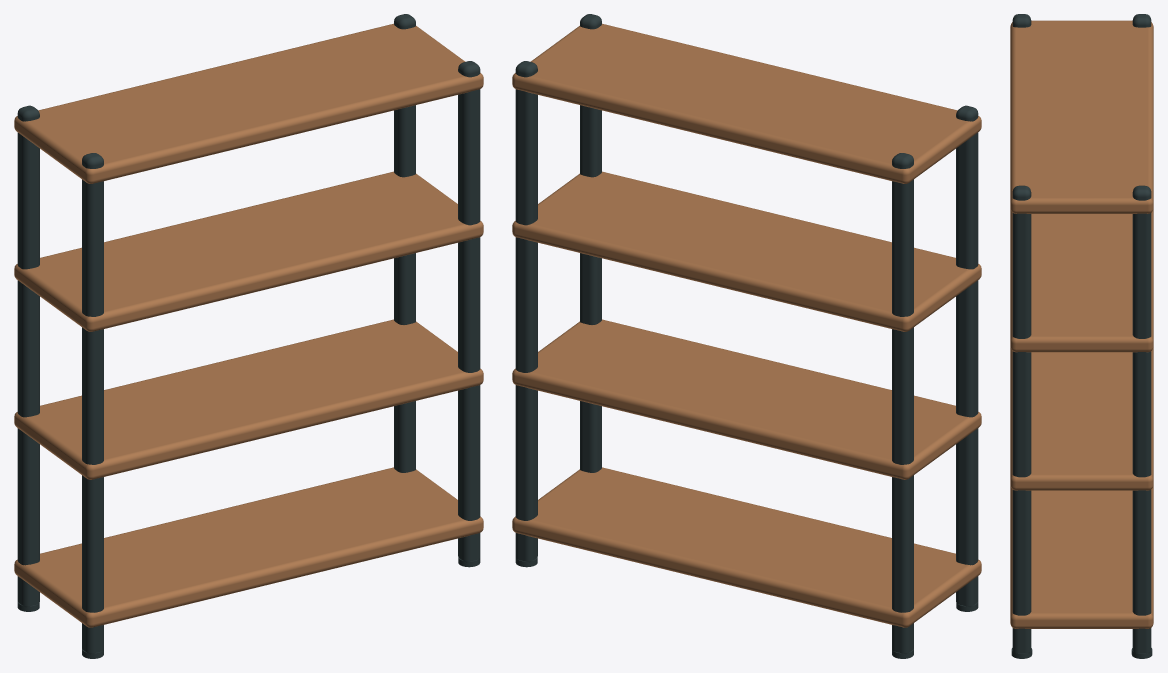
File: shelf.glb
The picture shows the model from 3 angles, left to right: view 1: azimuth 30°, elevation 25°; view 2: azimuth 150°, elevation 25°; view 3: azimuth 270°, elevation 25°; orthographic projection. The views are drawn at different scales.
Parts seen in each view (by area): view 1: shelf; view 2: shelf; view 3: shelf.
Boxes of the visible parts, box(x1,y1,x2,y2) form: shelf: box(14, 14, 483, 658); shelf: box(512, 14, 981, 658); shelf: box(1010, 14, 1153, 658).
Size of the model in its own units: 1.5 by 1.8 by 0.5.
